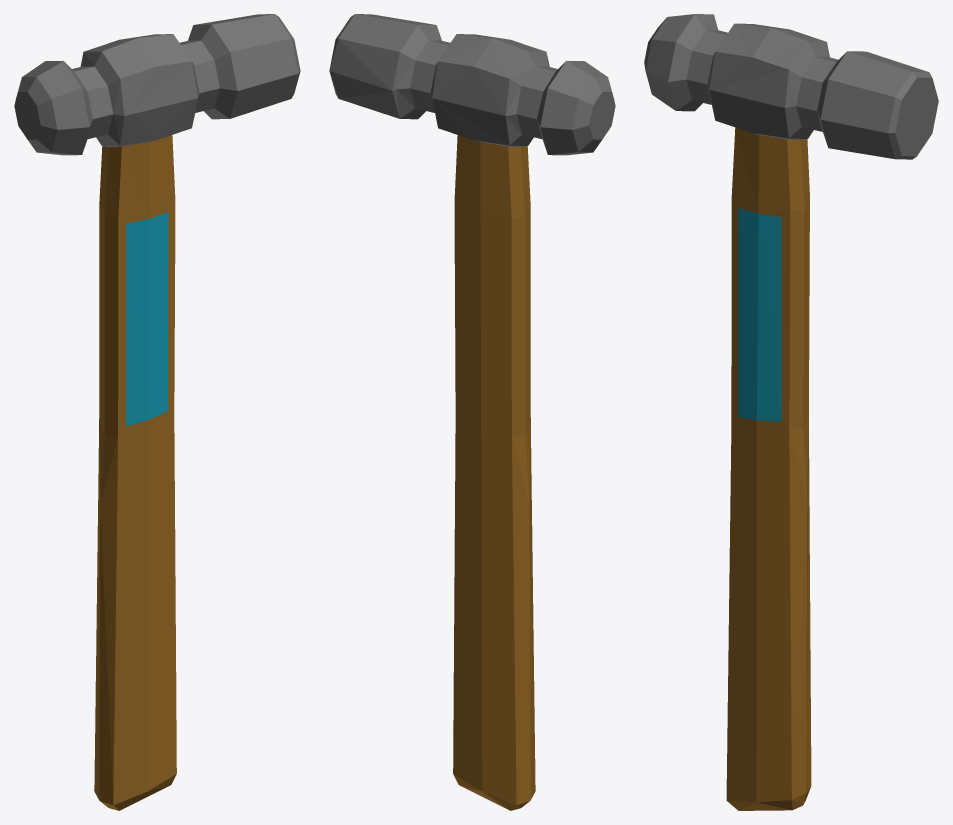
The model's file is hammer_1.FBX.
The picture shows the model from 3 angles, left to right: view 1: azimuth 30°, elevation 25°; view 2: azimuth 150°, elevation 25°; view 3: azimuth 330°, elevation 25°; orthographic projection. The views are drawn at different scales.
Visible parts, largest first — view 1: hammer_2_low_poly; view 2: hammer_2_low_poly; view 3: hammer_2_low_poly.
Boxes of the visible parts, x1,y1,x2,y2 form: hammer_2_low_poly: [14, 14, 300, 810]; hammer_2_low_poly: [329, 14, 615, 810]; hammer_2_low_poly: [644, 14, 938, 810].
Bounding box in the file's own units: 47.8 × 138 × 17.16.
Materials: 1 (1 with a texture image).
